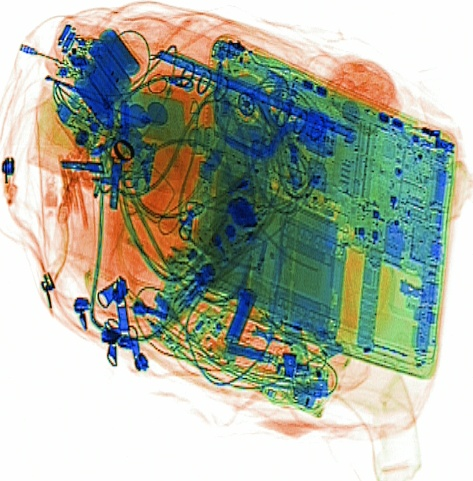powerbank: (72, 28, 142, 131)
